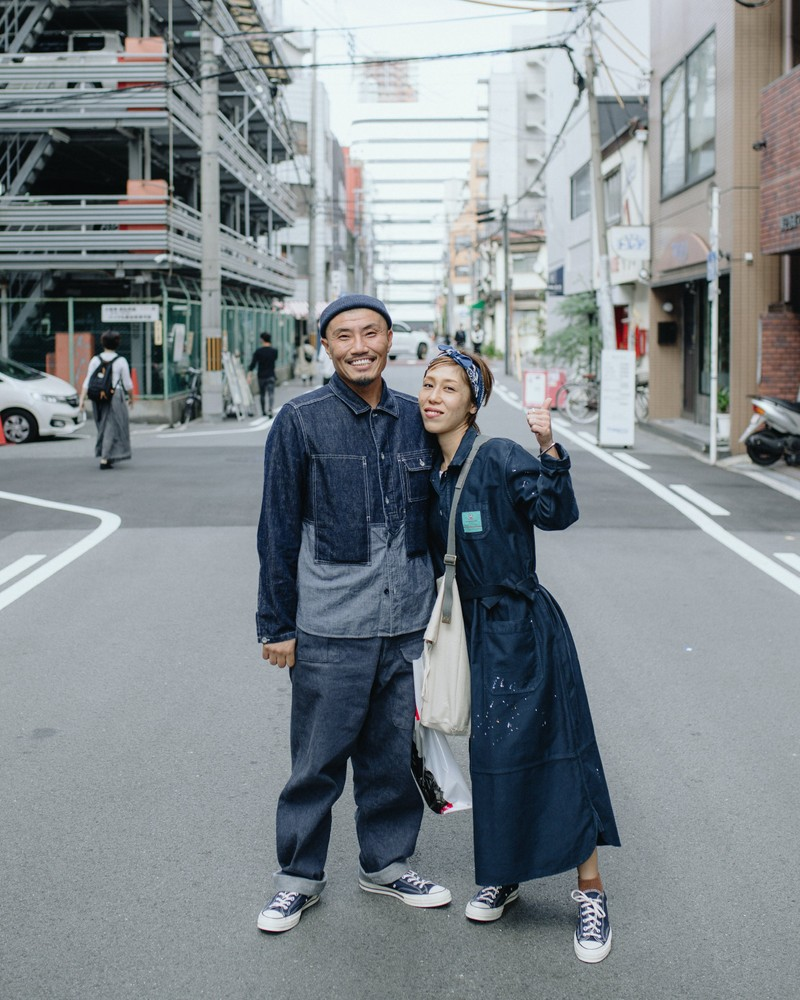car: (1, 359, 88, 446)
person: (234, 277, 470, 940), (397, 344, 641, 973), (71, 326, 156, 475), (244, 326, 296, 419)
